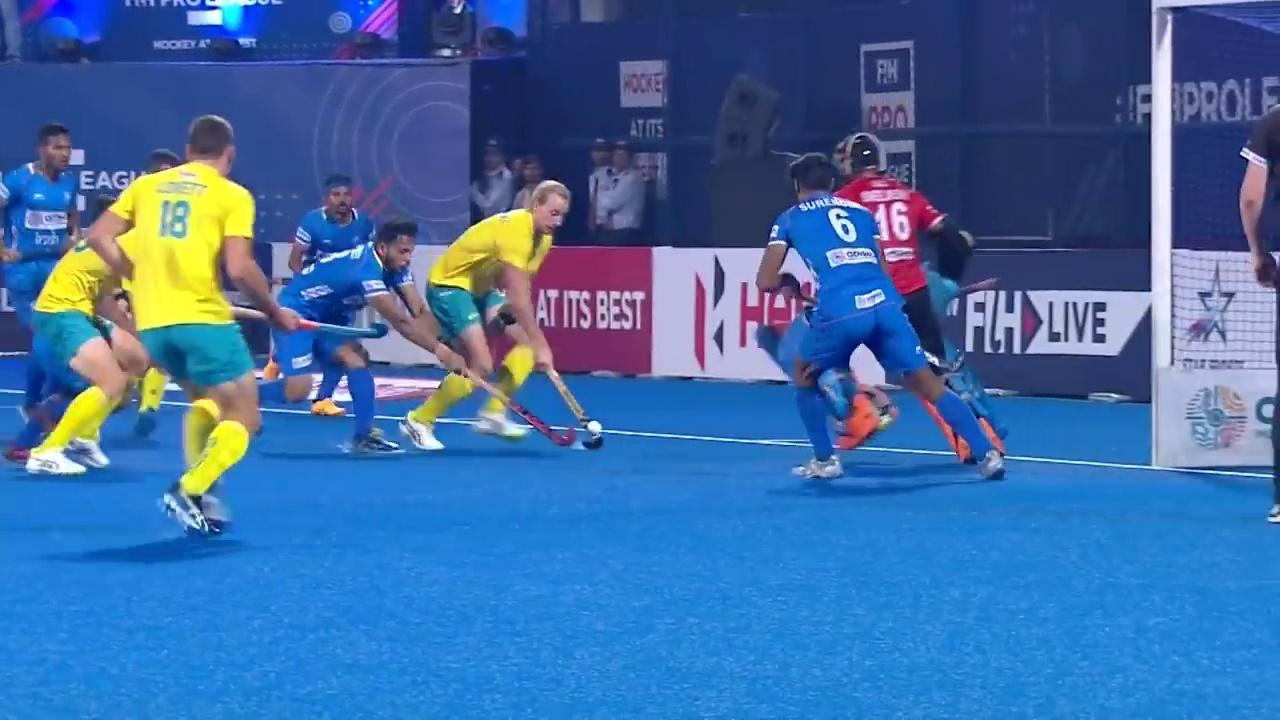ball: (562, 399, 626, 447)
